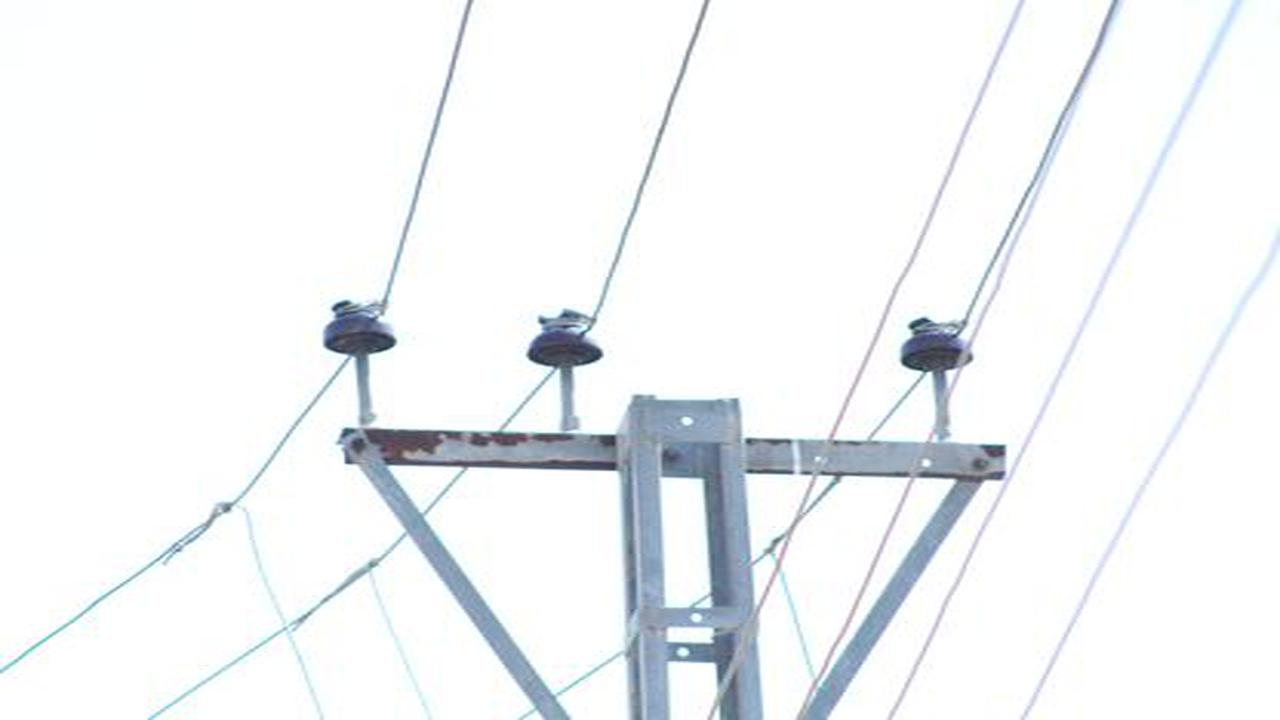insulator_pin: (522, 303, 610, 373), (318, 292, 401, 360), (896, 310, 979, 377)
